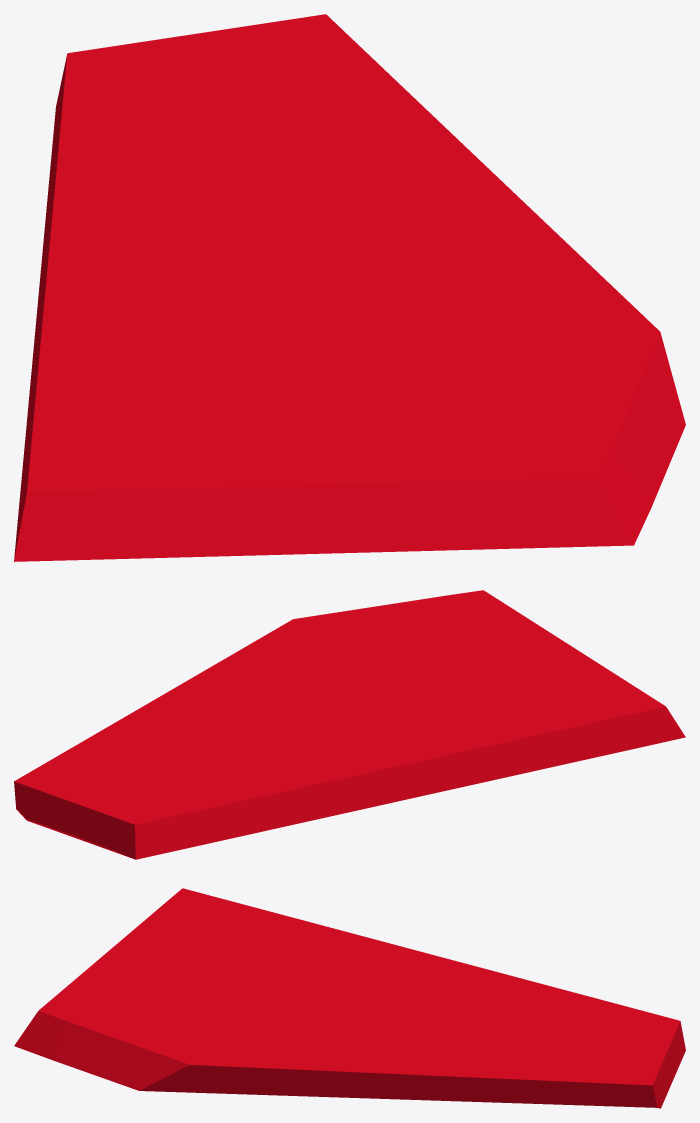
File: glass3-temp.glb
The picture shows the model from 3 angles, top to bottom: view 1: azimuth 30°, elevation 25°; view 2: azimuth 150°, elevation 25°; view 3: azimuth 270°, elevation 25°; orthographic projection. The views are drawn at different scales.
Parts seen in each view (by area): view 1: Glass_cell_cell_007Shape_44_0; view 2: Glass_cell_cell_007Shape_44_0; view 3: Glass_cell_cell_007Shape_44_0.
Part boxes in pixels (<box>): Glass_cell_cell_007Shape_44_0: <box>14,14,685,561</box>; Glass_cell_cell_007Shape_44_0: <box>14,590,685,859</box>; Glass_cell_cell_007Shape_44_0: <box>14,888,685,1108</box>.
Size of the model in its own units: 0.1743 by 0.0125 by 0.2428.
